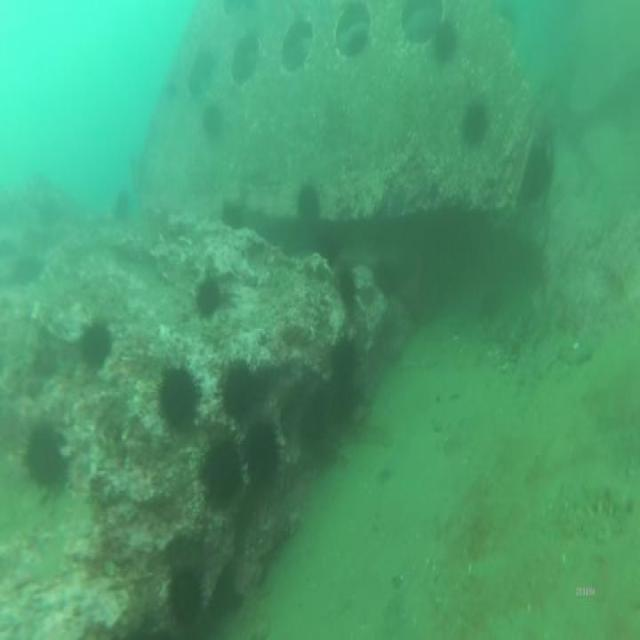echinus: (197, 432, 248, 518), (153, 359, 205, 439), (239, 413, 284, 504), (16, 417, 69, 493), (217, 357, 265, 422), (76, 314, 118, 380), (165, 562, 207, 628), (325, 334, 360, 402), (456, 100, 489, 150), (195, 272, 225, 322), (293, 178, 323, 224), (432, 24, 460, 66), (336, 262, 358, 314), (200, 99, 225, 136)
